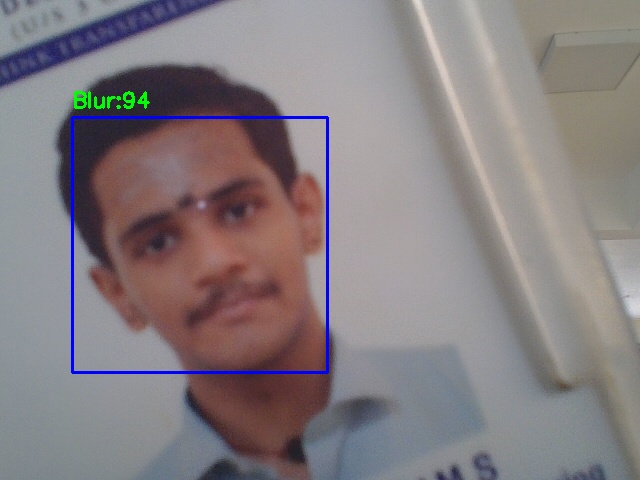fake: (72, 117, 327, 372)
